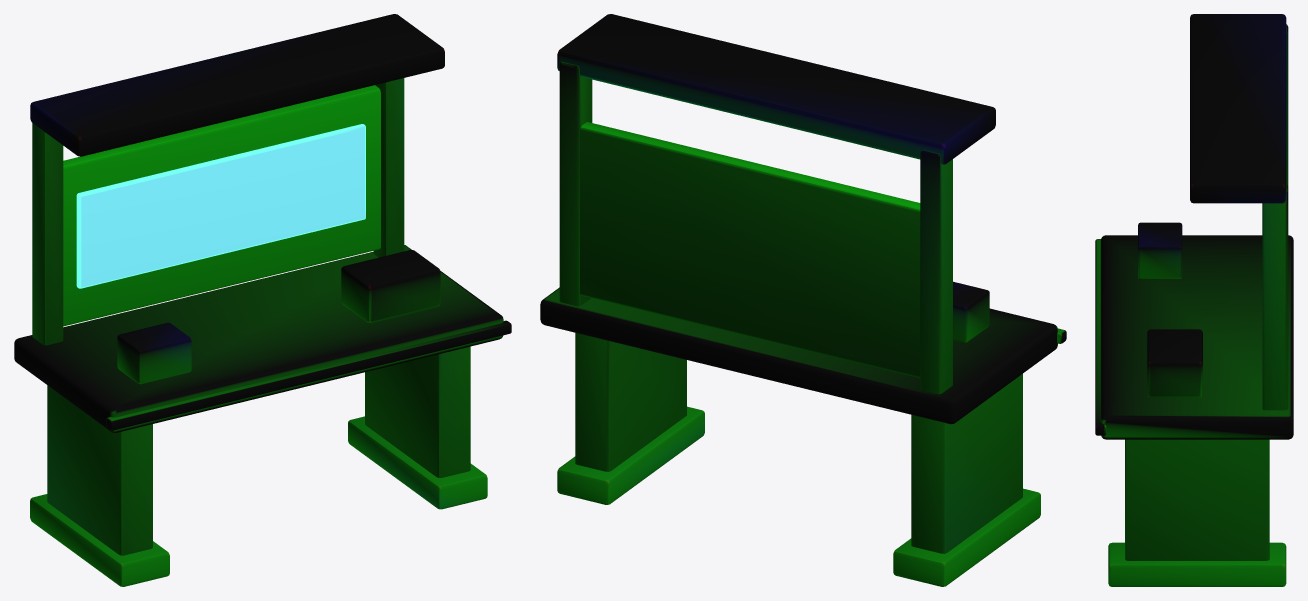
Rendered from hero_workshop_bench.glb.
3 renders of one model, left to right at view 1: azimuth 30°, elevation 25°; view 2: azimuth 150°, elevation 25°; view 3: azimuth 270°, elevation 25°, orthographic. The views are drawn at different scales.
Visible parts, largest first — view 1: HeroWorkshopBench; view 2: HeroWorkshopBench; view 3: HeroWorkshopBench.
Boxes of the visible parts, <box> form: HeroWorkshopBench: <box>14,14,511,586</box>; HeroWorkshopBench: <box>540,14,1066,586</box>; HeroWorkshopBench: <box>1095,14,1293,586</box>.
Bounding box in the file's own units: 2.4 × 2.4 × 1.07.
